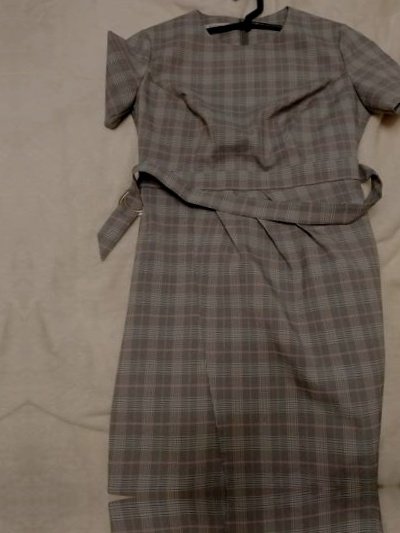Dress: (58, 0, 400, 495), (79, 489, 400, 533), (0, 509, 5, 533)
